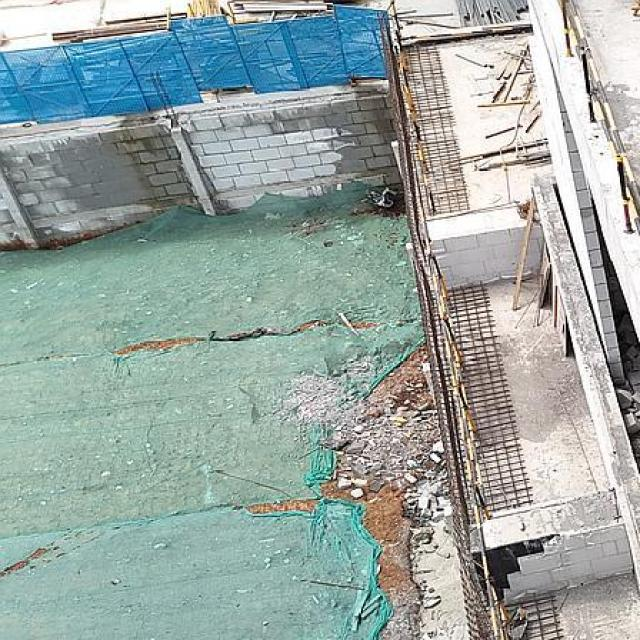edge_guardrail: (421, 221, 502, 640), (560, 0, 640, 239), (390, 1, 439, 219)
